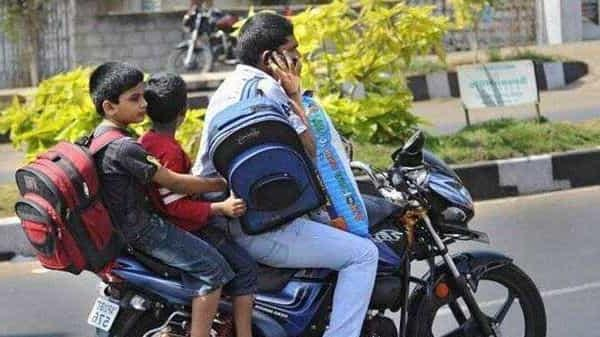Helmet: (222, 5, 290, 67)
